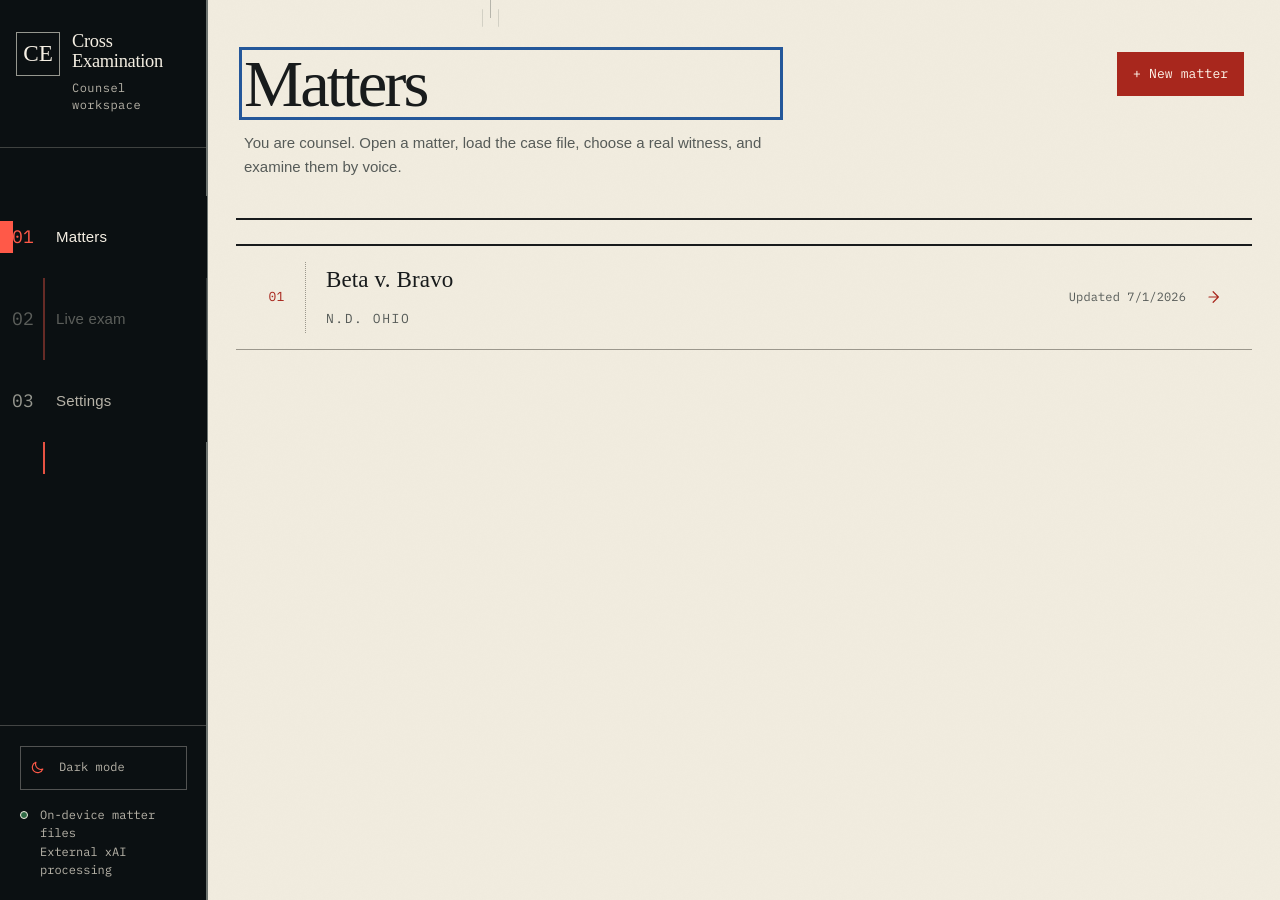
App async ownership › keeps a stale review request from replacing or unlocking the newest one
This screenshot has width=1280, height=900.
Click the button "01 Beta v. Bravo N.D. Ohio Updated 7/1/2026" at (277, 298), box [236,246,1252,350]
(page scrolled)
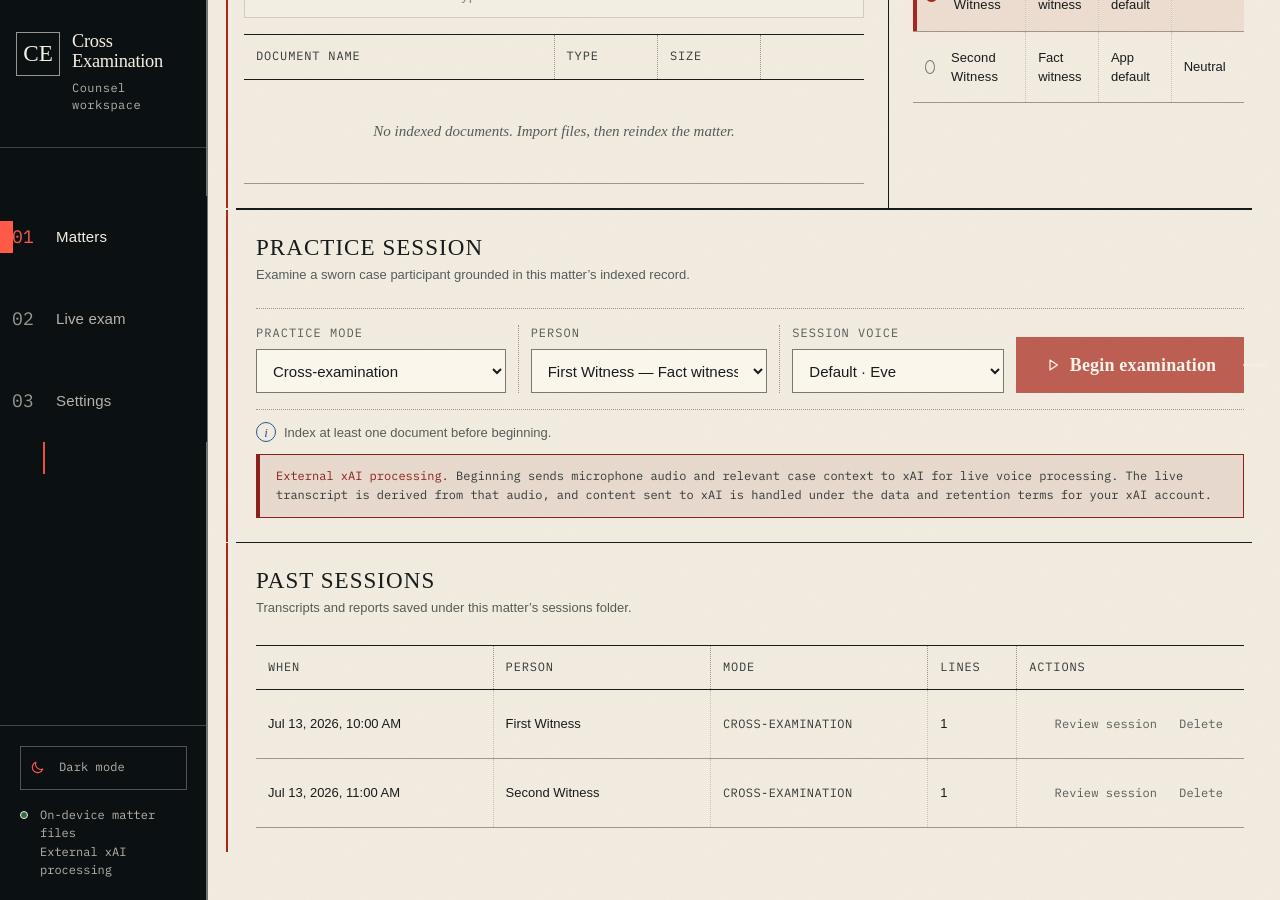
Click the button "Review session" in the row of "Jul 13, 2026, 10:00 AM" at (1106, 724), box [1046,702,1166,746]
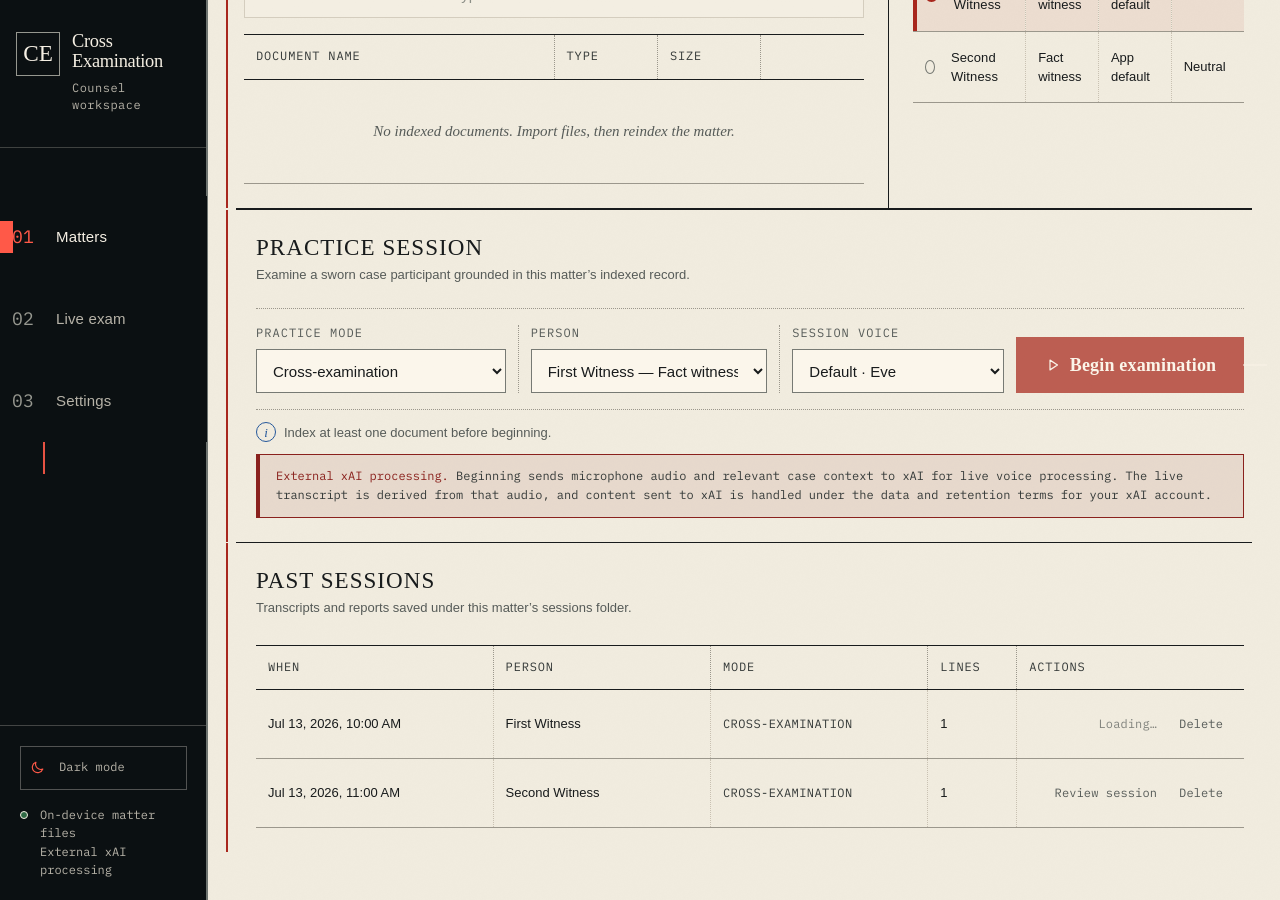
Click the button "Review session" at (1106, 793), box [1046,771,1166,815]
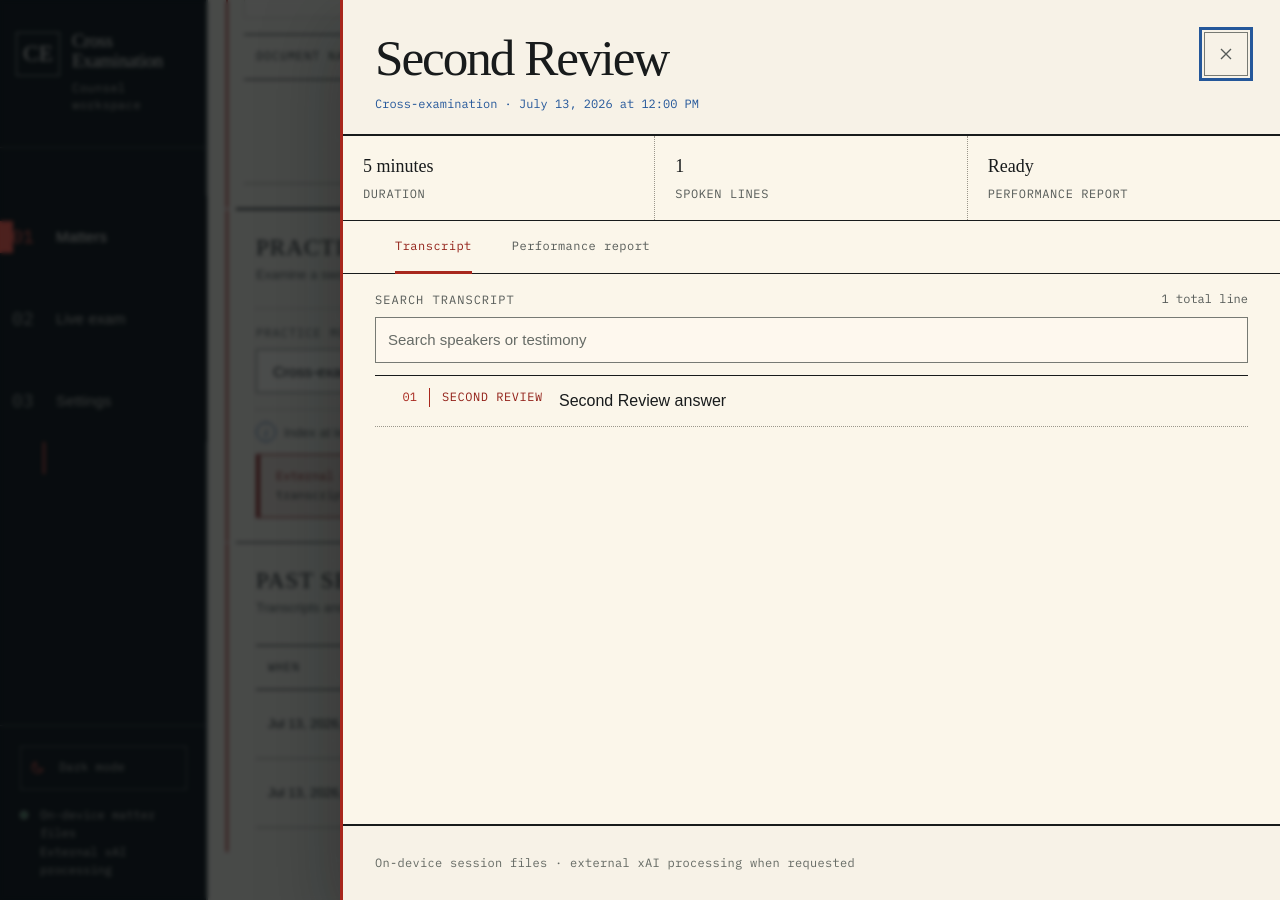
Expected: the dialog is shown
Expected: the heading "Second Review" is shown, [375,32,699,83]
